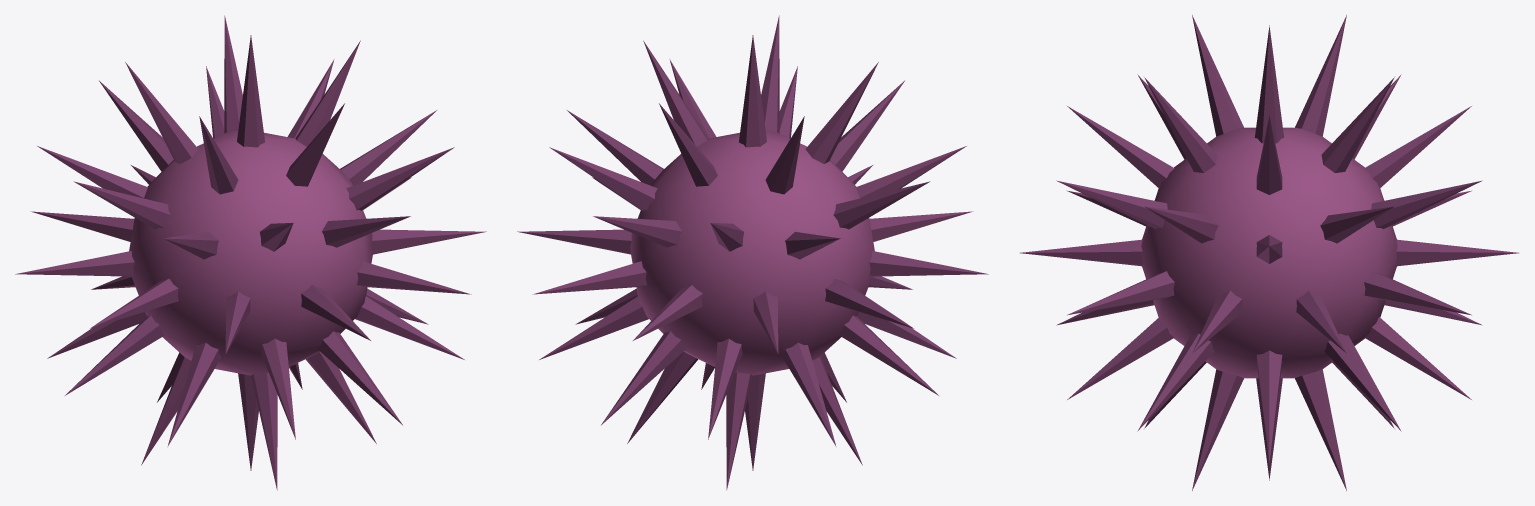
The model's file is Urchin.fbx.
3 views of the same model, side by side, from view 1: azimuth 30°, elevation 25°; view 2: azimuth 150°, elevation 25°; view 3: azimuth 270°, elevation 25° (orthographic). The views are drawn at different scales.
Visible parts, largest first — view 1: Urchin; view 2: Urchin; view 3: Urchin.
Part boxes in pixels (box(x1,y1,x2,y2)): Urchin: box(15, 15, 486, 490); Urchin: box(517, 15, 988, 490); Urchin: box(1020, 15, 1518, 490).
Bounding box in the file's own units: 1.16 × 1.22 × 1.22.
